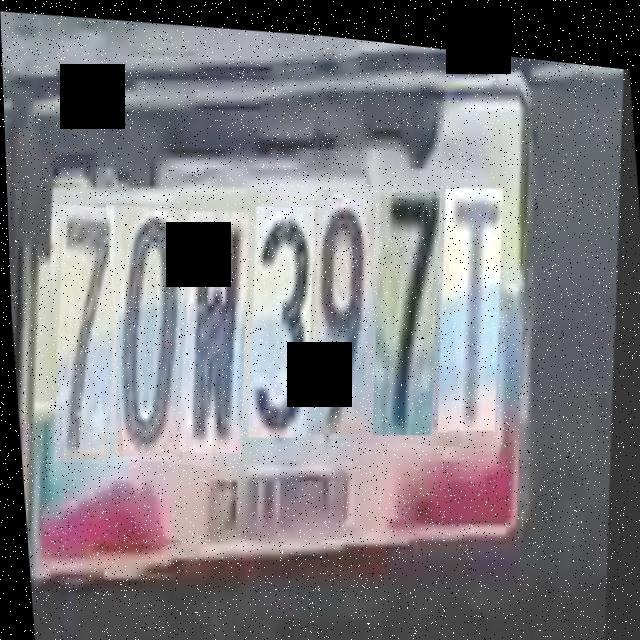3: (240, 198, 331, 444)
7: (44, 200, 137, 468), (363, 183, 459, 440)
9: (301, 189, 390, 439)
O: (105, 199, 209, 466)
T: (429, 178, 522, 437)
W: (171, 203, 268, 460)
